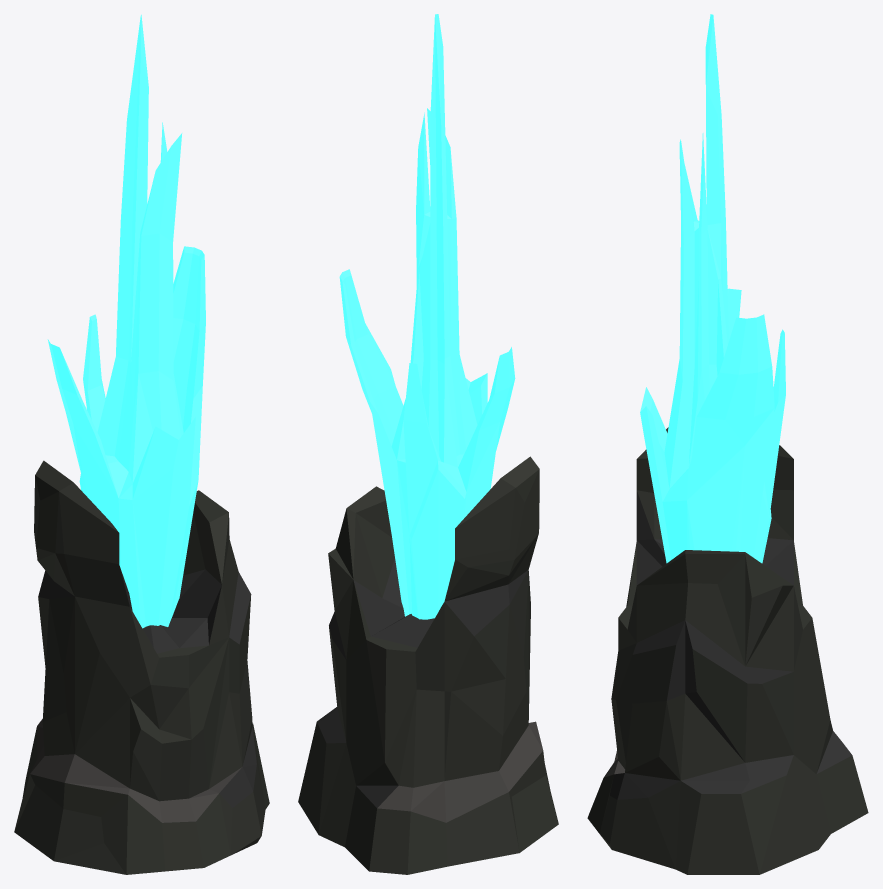
The model's file is SM_Relief_Element_10.glb.
The picture shows the model from 3 angles, left to right: view 1: azimuth 30°, elevation 25°; view 2: azimuth 150°, elevation 25°; view 3: azimuth 270°, elevation 25°; orthographic projection.
Parts seen in each view (by area): view 1: SM_Relief_Element_10; view 2: SM_Relief_Element_10; view 3: SM_Relief_Element_10.
Boxes of the visible parts, x1,y1,x2,y2 form: SM_Relief_Element_10: (14,14,269,874); SM_Relief_Element_10: (298,14,558,874); SM_Relief_Element_10: (587,14,868,874).
Bounding box in the file's own units: 0.4588 × 1.6 × 0.5062.
Materials: 2 (1 with a texture image).
